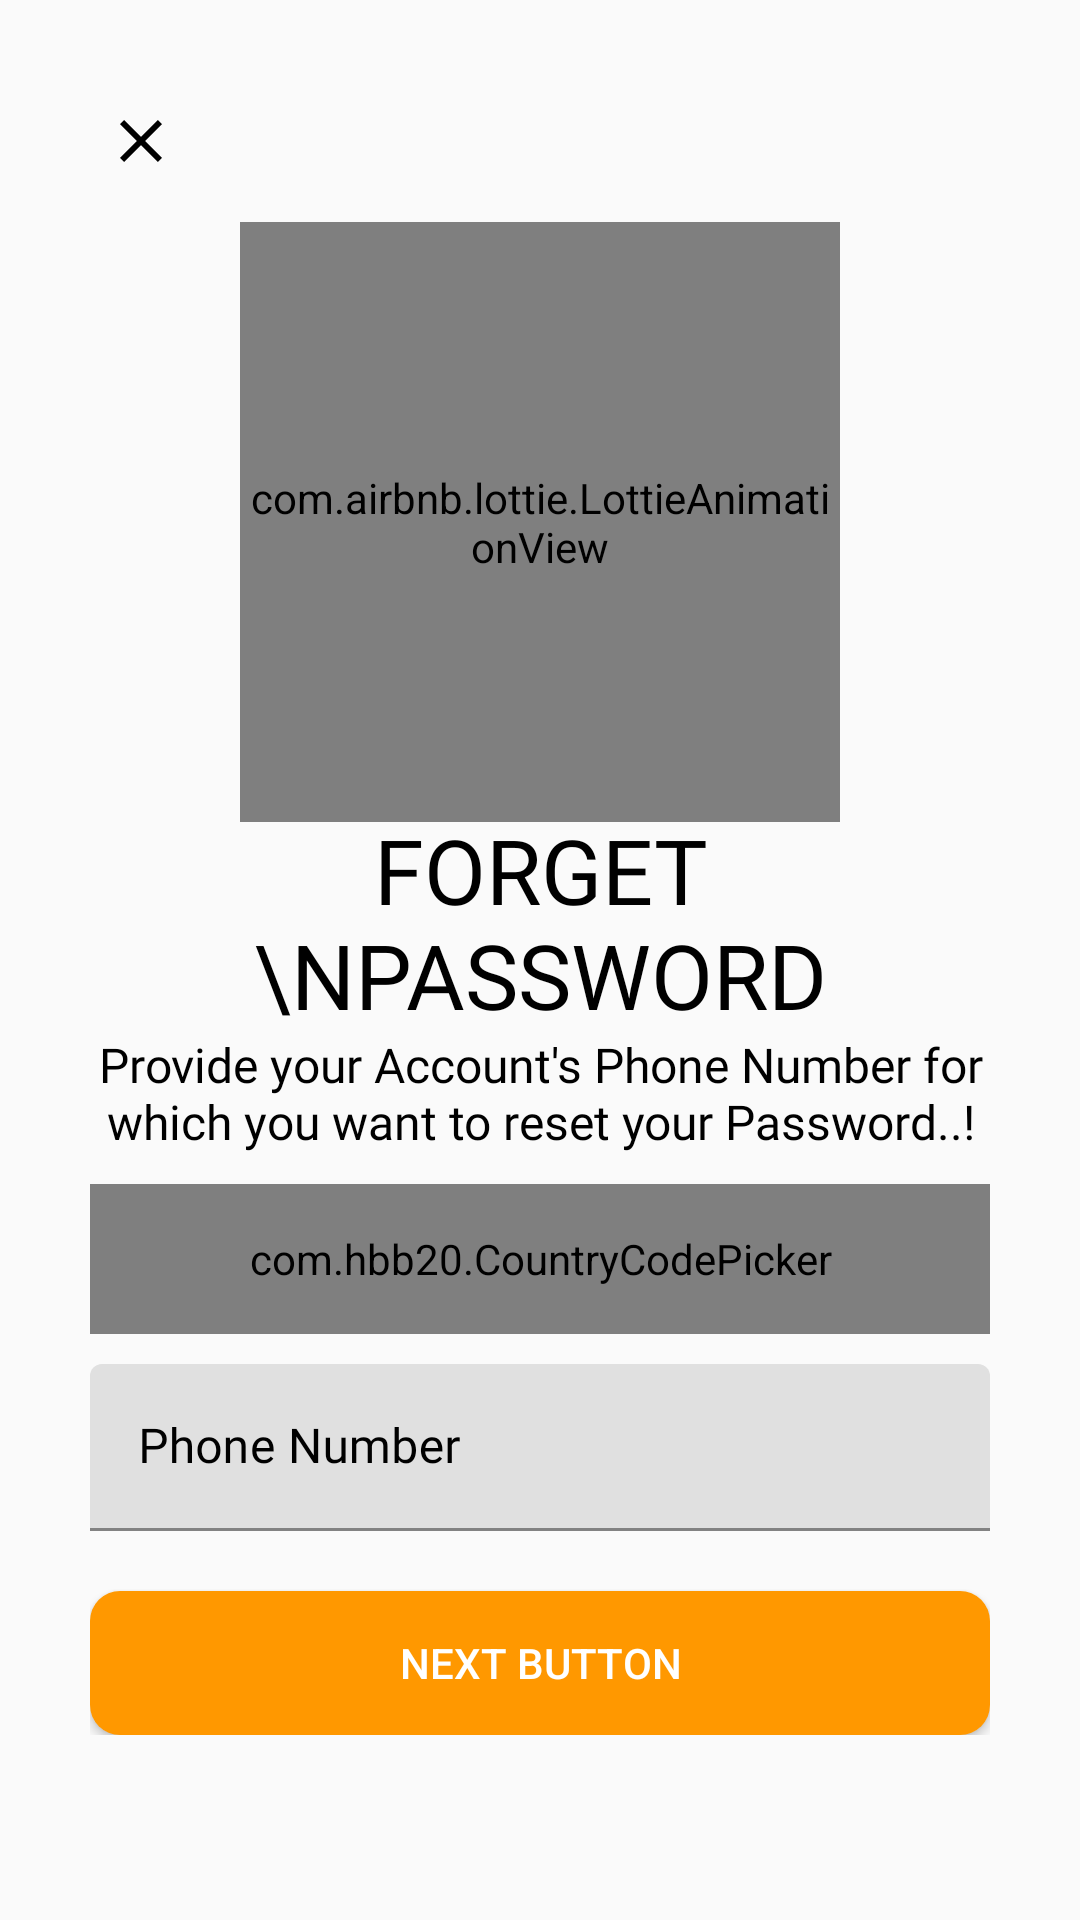

Screen size 1080x1920. Icon name, then its box in pixels as {"x1": x1, "y1": y1, "x2": x2, "y2": y2}:
general close: {"x1": 120, "y1": 120, "x2": 162, "y2": 162}
